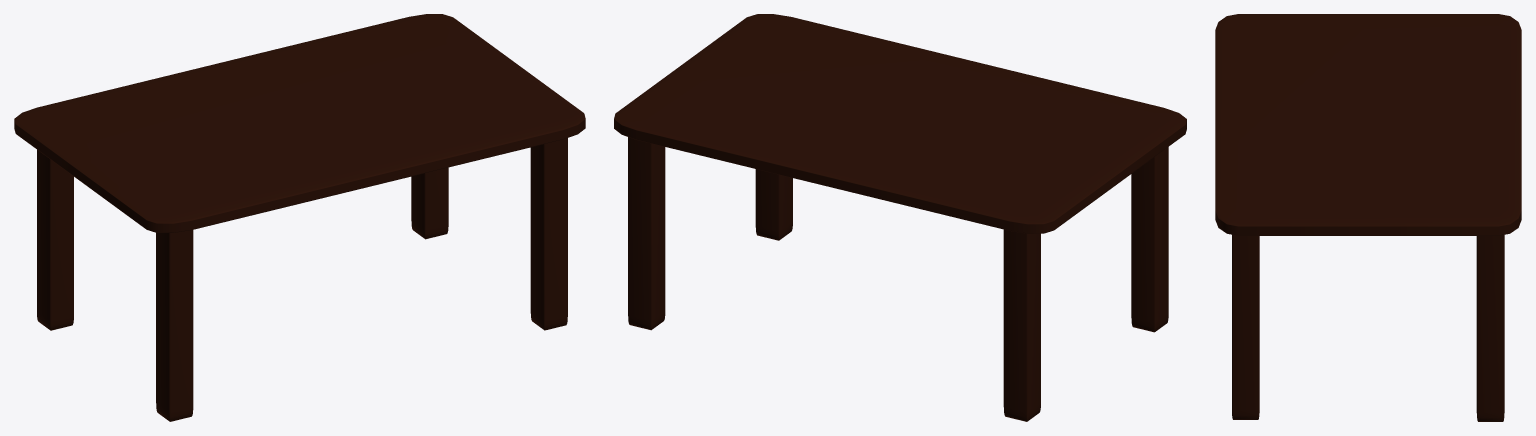
The model's file is Mesa.fbx.
3 renders of one model, left to right at view 1: azimuth 30°, elevation 25°; view 2: azimuth 150°, elevation 25°; view 3: azimuth 270°, elevation 25°, orthographic.
Parts seen in each view (by area): view 1: Mesa; view 2: Mesa; view 3: Mesa.
Boxes of the visible parts, x1,y1,x2,y2 form: Mesa: (14, 14, 585, 421); Mesa: (614, 14, 1186, 421); Mesa: (1215, 14, 1521, 421).
Bounding box in the file's own units: 328 × 147 × 200.
